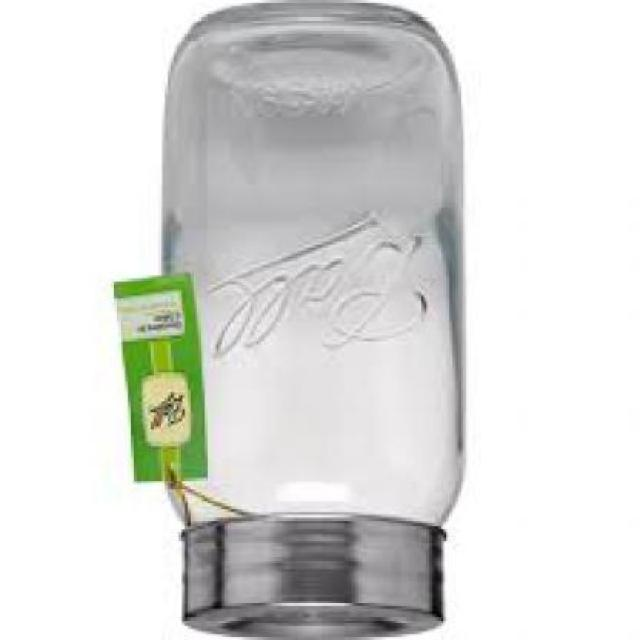GLASS: (165, 3, 469, 532)
METAL: (182, 523, 450, 639)
PAPER: (116, 279, 213, 484)
